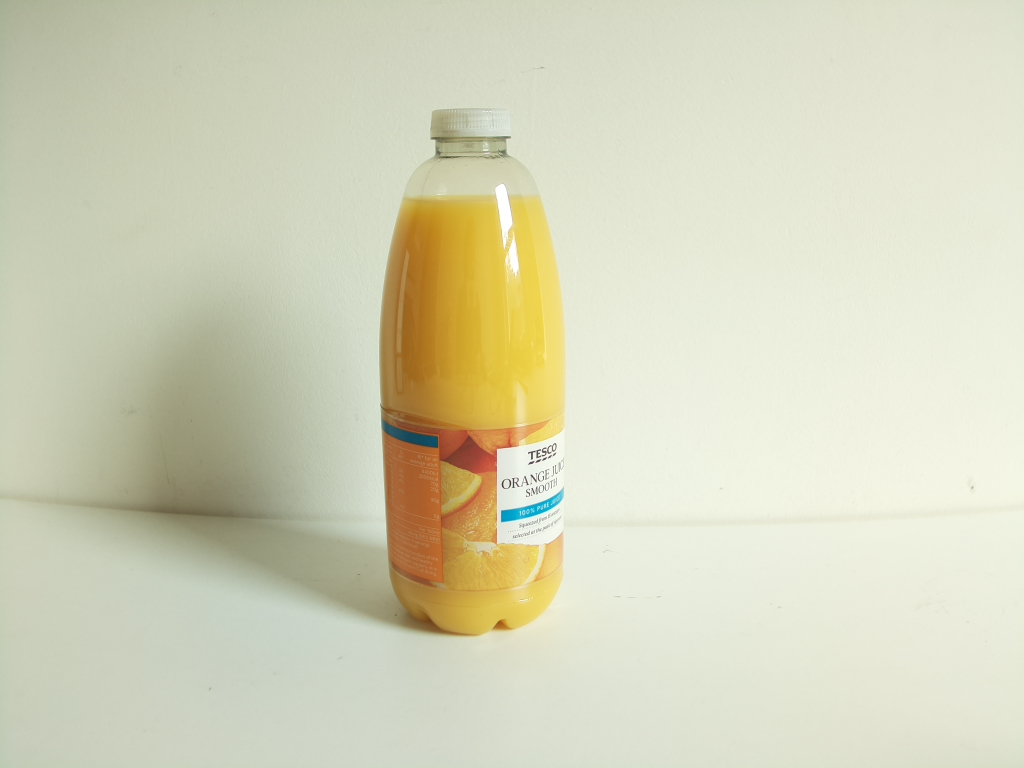juice: (377, 108, 573, 642)
